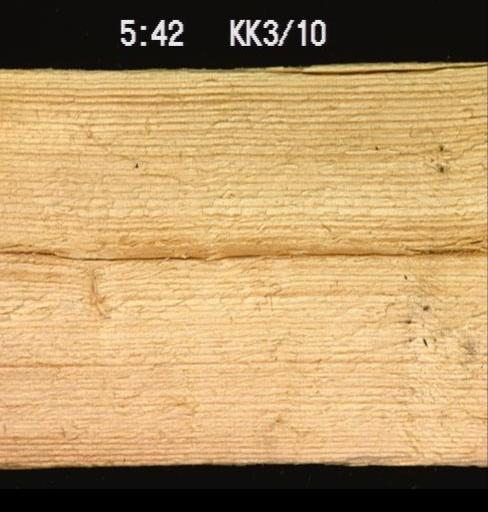small_knot: (84, 270, 113, 317)
split: (212, 244, 486, 258), (0, 246, 207, 260)
